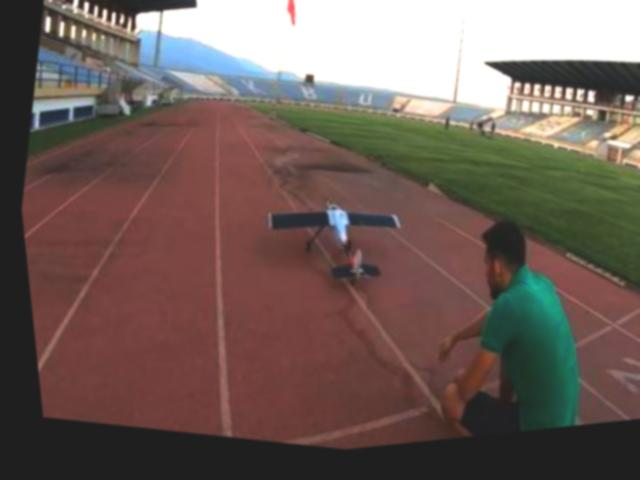uav: (244, 187, 403, 307)
